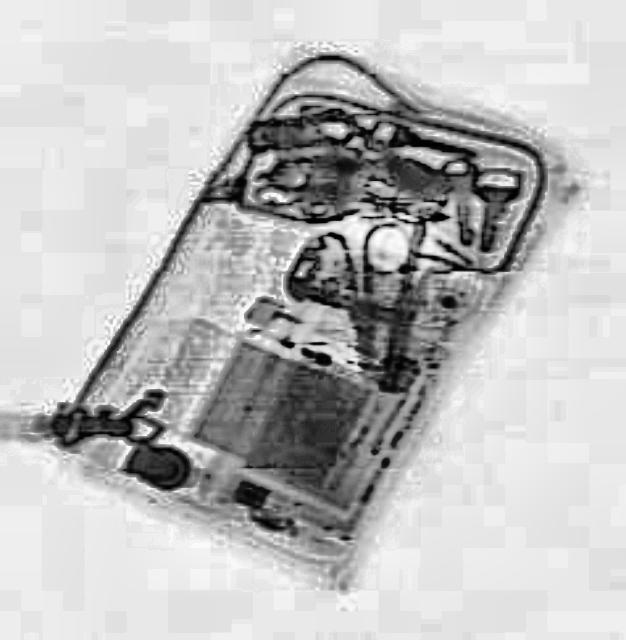Scissors: (295, 216, 422, 370)
